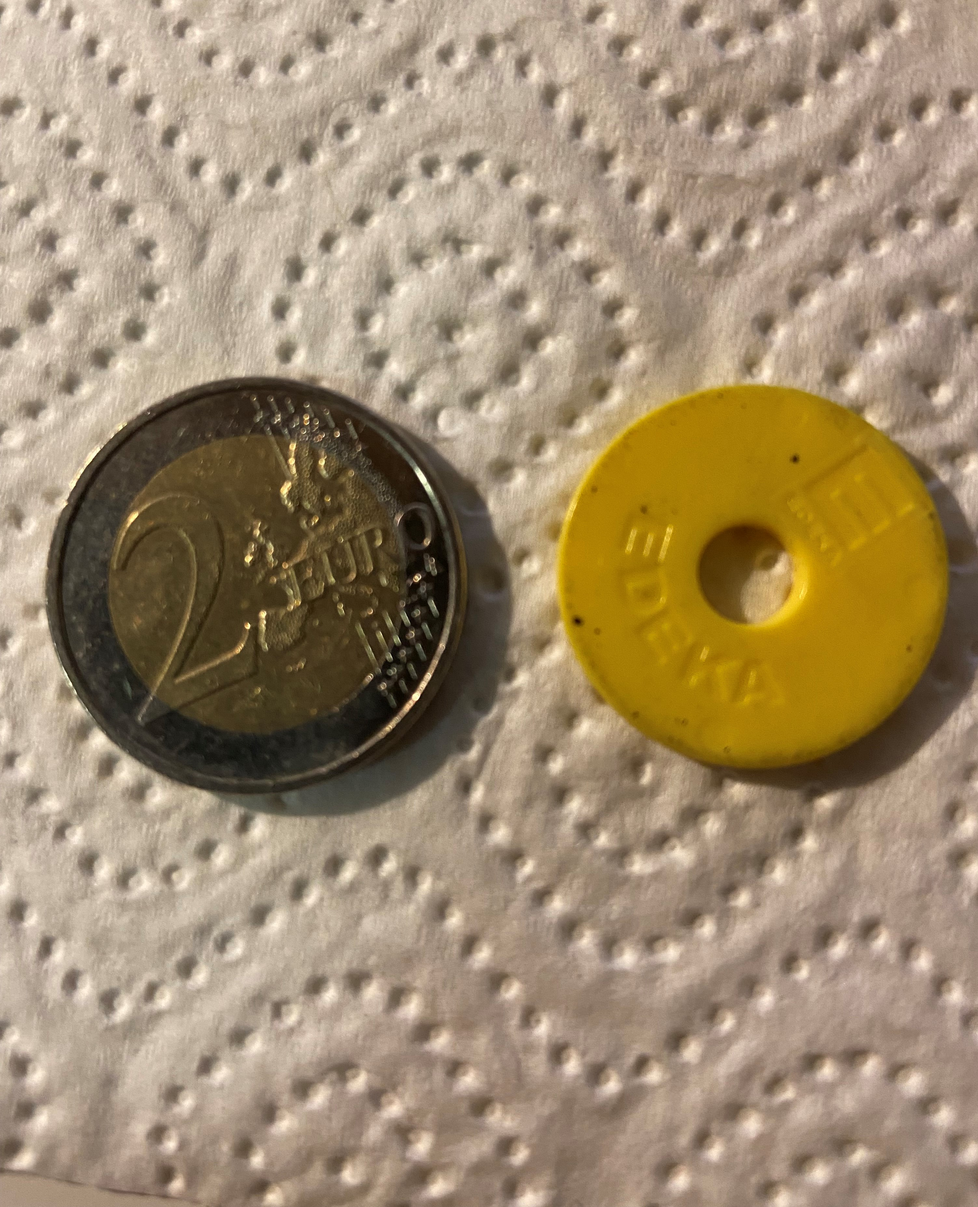2 euro: (32, 372, 478, 810)
